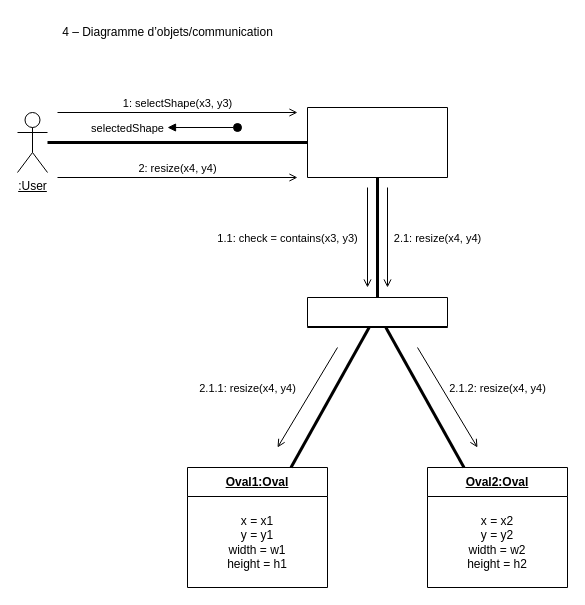
The diagram is 585 pixels wide and 605 high, and some of its shapes have lost their labels. The shapes that lost their labels are listed below. From the top down, each one's centre as x and y in pixels, then its label:
At (x=377, y=142): ":Panel".
At (x=377, y=312): ":GeneralShape".
